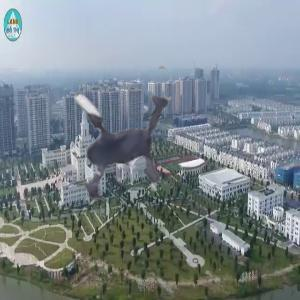drone: (11, 26, 207, 222)
